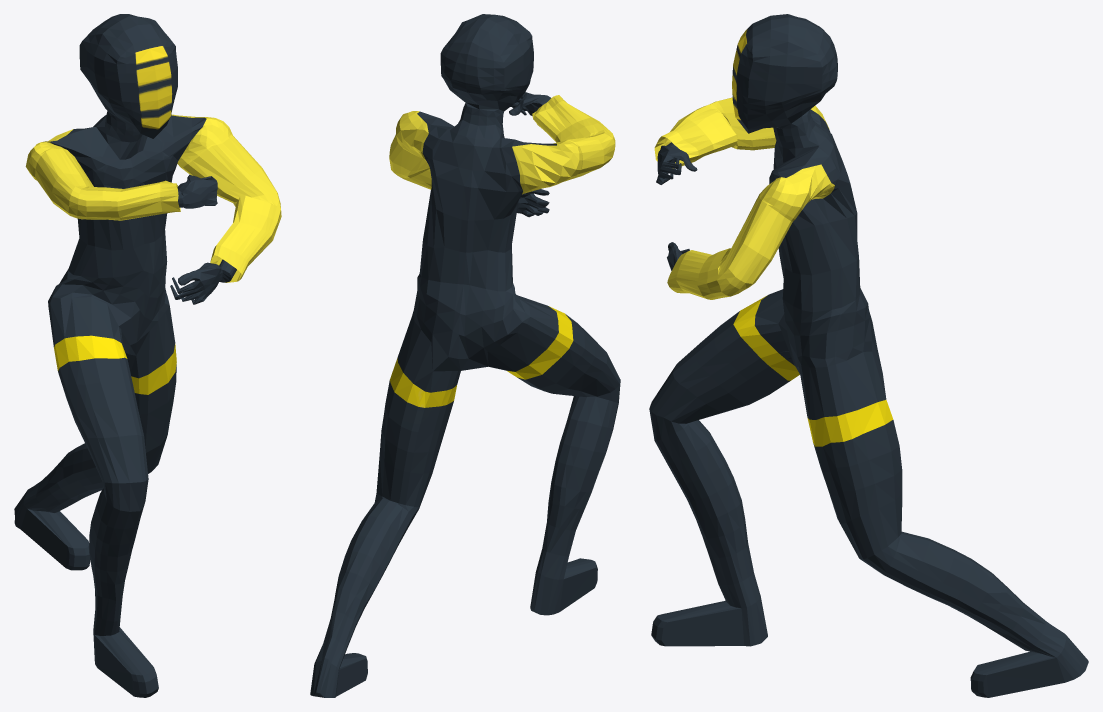
Rendered from Sentry_Hit_Stun_000008.obj.
3 renders of one model, left to right at view 1: azimuth 30°, elevation 25°; view 2: azimuth 150°, elevation 25°; view 3: azimuth 270°, elevation 25°, orthographic. The views are drawn at different scales.
Visible parts, largest first — view 1: Cube; view 2: Cube; view 3: Cube.
Part boxes in pixels (x1,y1,x2,y2): Cube: [14, 14, 281, 697]; Cube: [310, 14, 620, 697]; Cube: [649, 14, 1088, 697].
Bounding box in the file's own units: 1.29 × 3.48 × 2.12.
